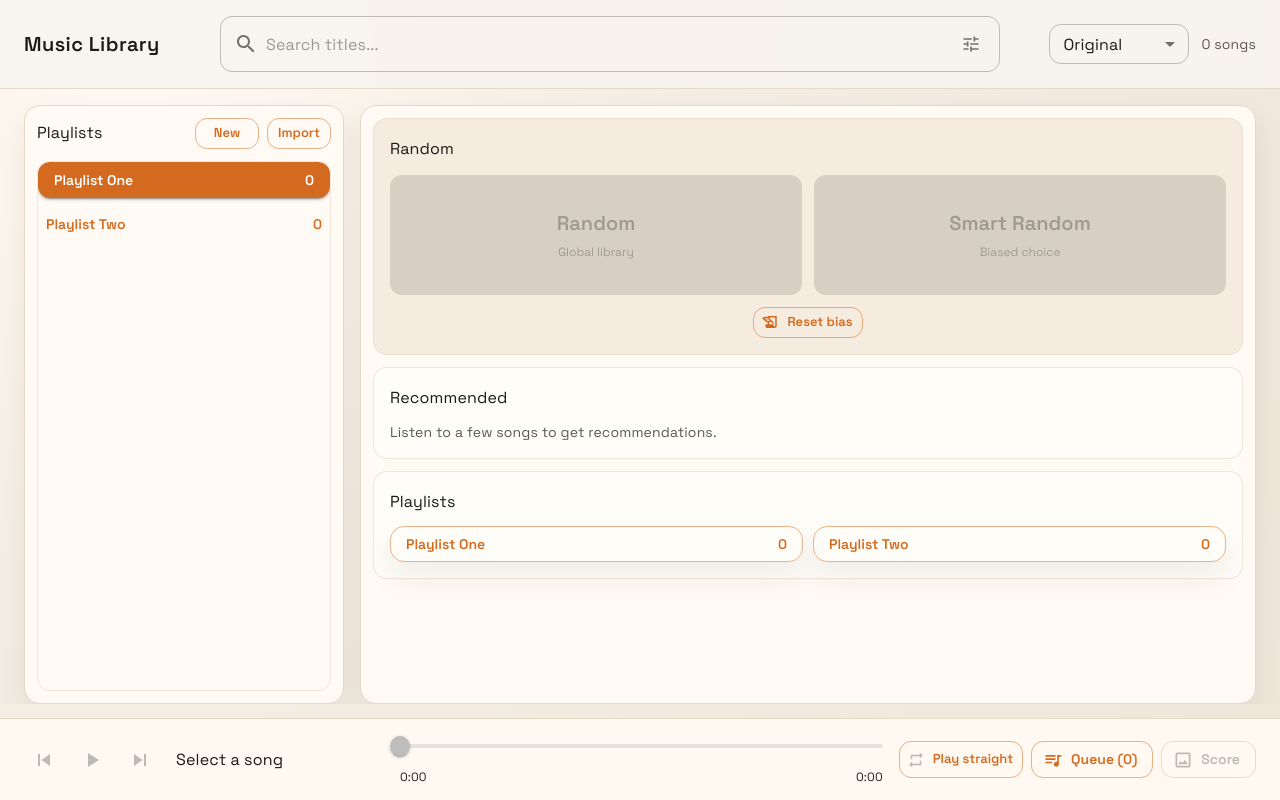
Test: playlist dialogs › shows the playlist picker when changing the add-to target
Type "test" into the field with placeholder "Search titles...".
click(607, 44); type("test")  # box [266,16,948,72]
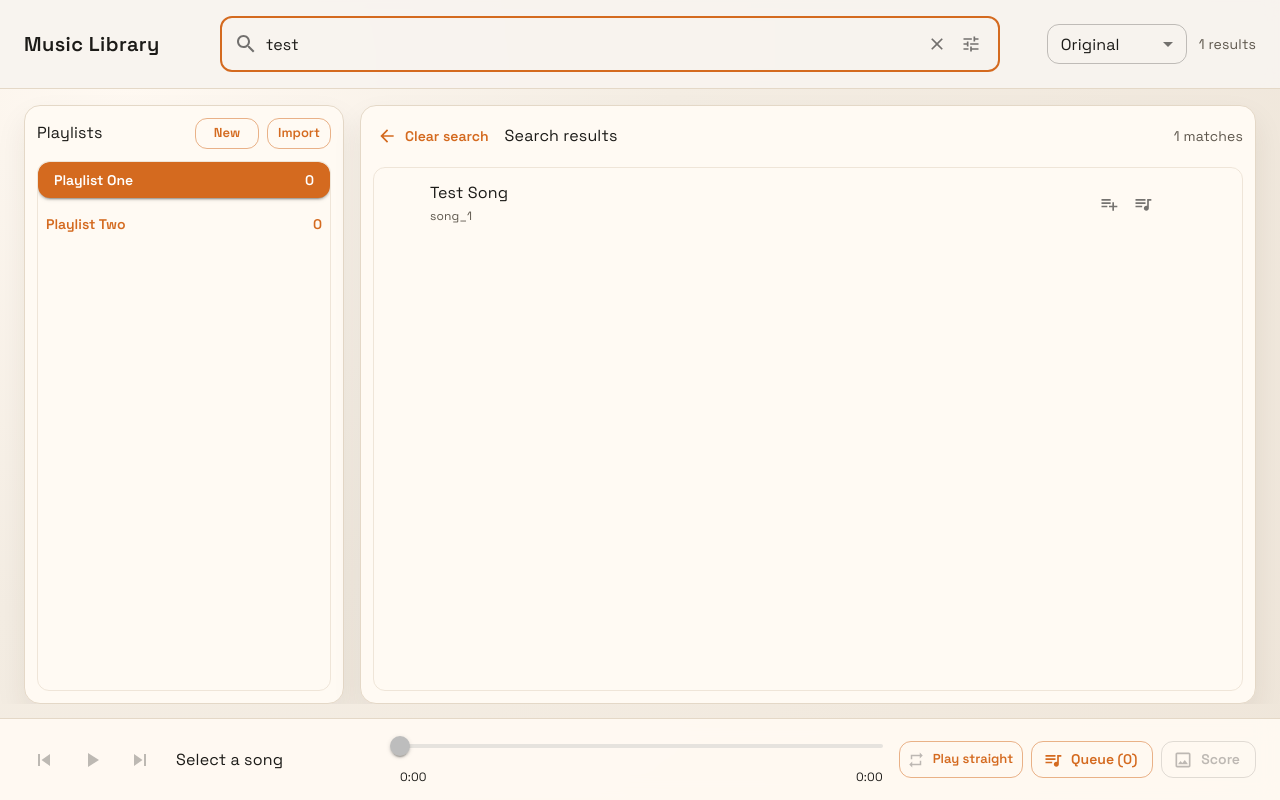
Click the button named "Add to playlist".
click(1109, 204)  # box [1094,188,1124,218]
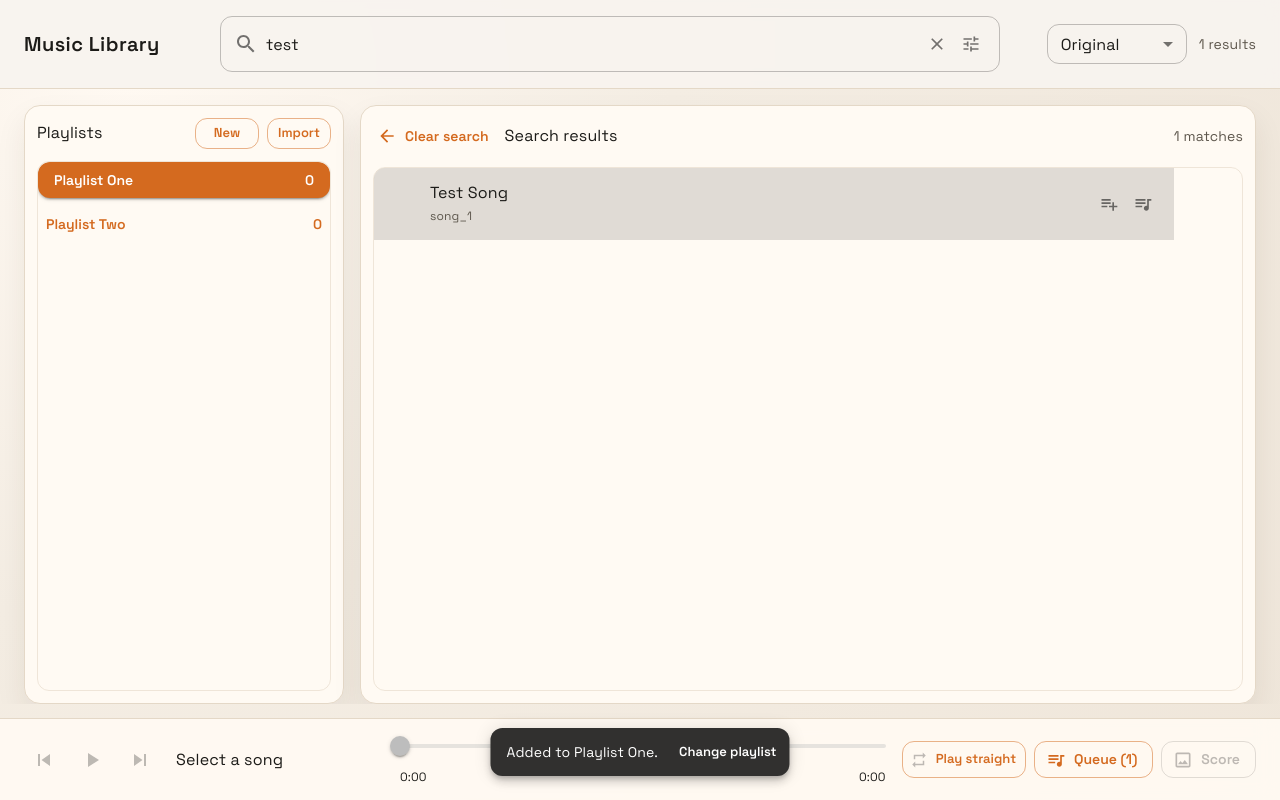
Click the button "Change playlist".
click(728, 752)  # box [674,737,782,767]
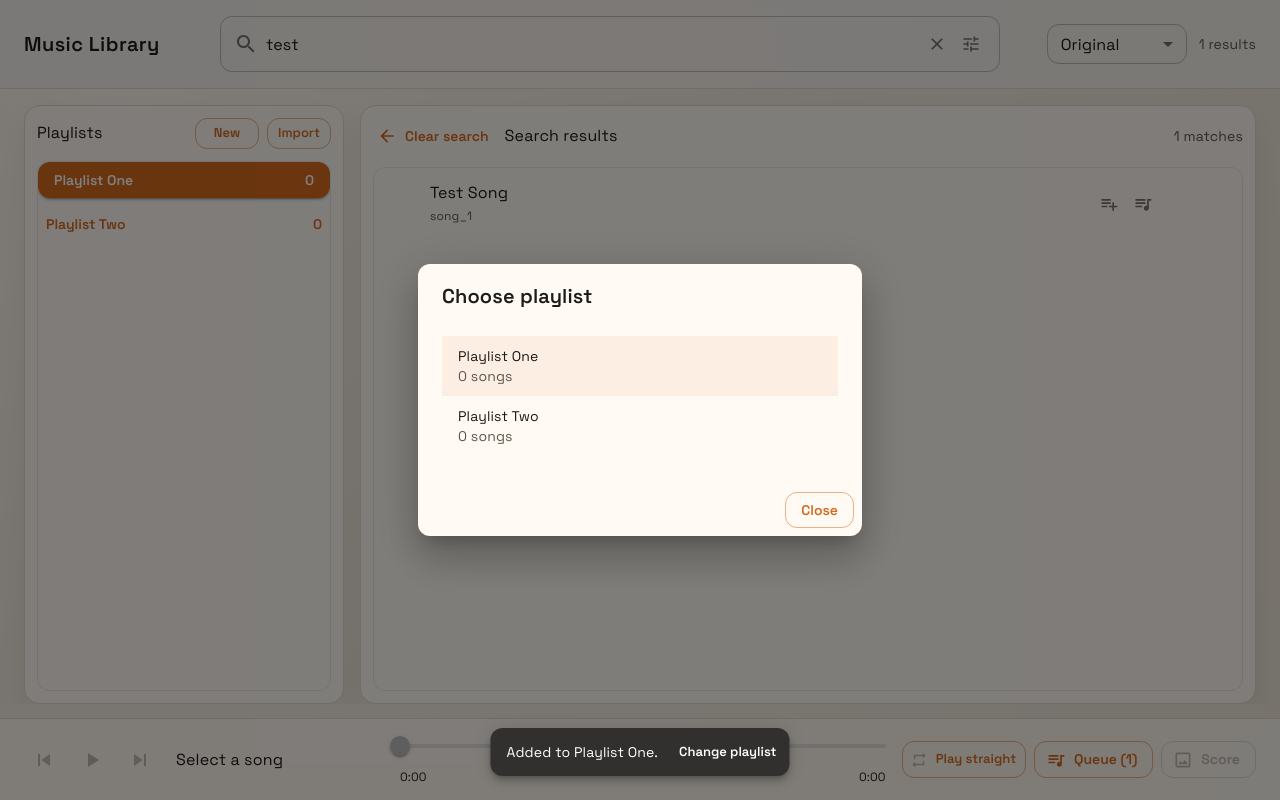
Check: the text "Playlist One" is shown, box [458,347,538,365]
Check: the text "Playlist Two" is shown, box [458,407,539,425]
